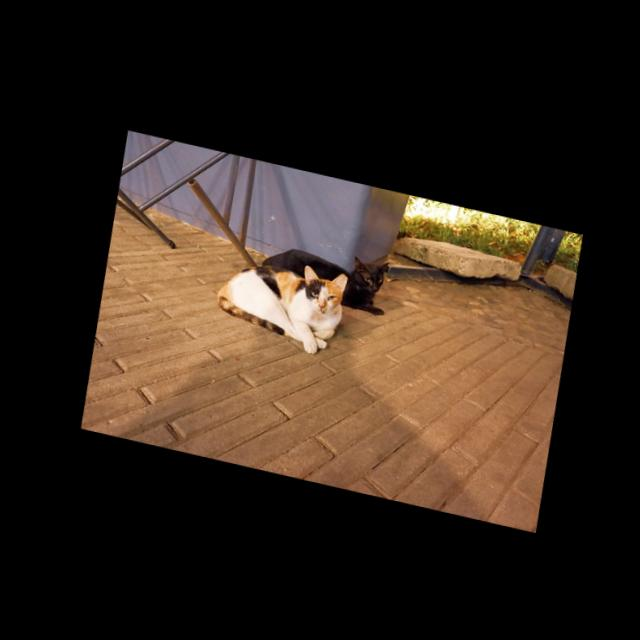animals: (207, 244, 349, 357), (250, 228, 393, 314)
